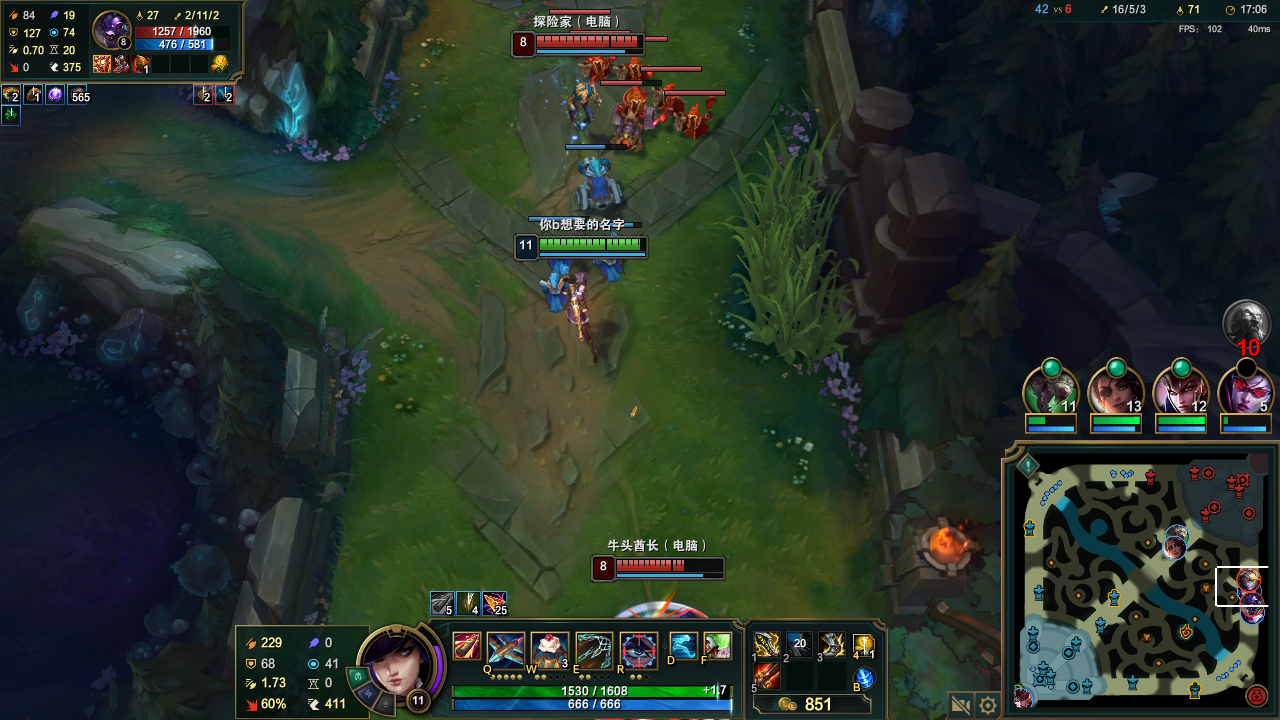DFXB: (610, 90, 654, 147), (674, 104, 712, 136), (658, 88, 685, 115), (624, 61, 651, 80), (588, 59, 614, 78)
DFYX: (534, 32, 632, 48), (617, 557, 701, 571)
WFXB: (575, 160, 622, 212), (539, 274, 567, 304)
